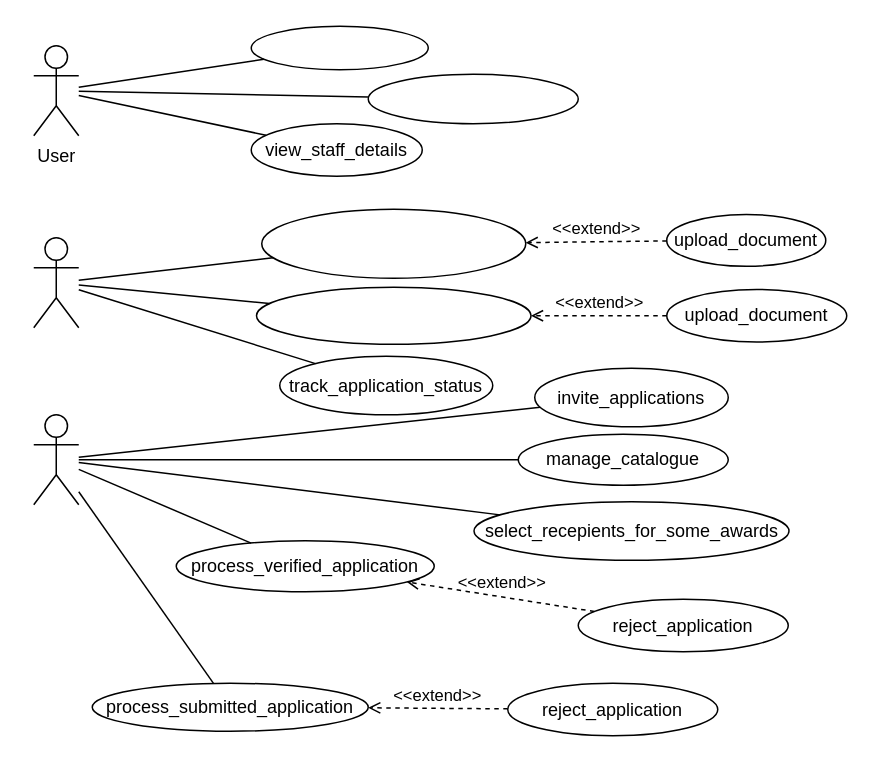
Image size: 873x762. Some labels were removed from this diagram. The shapes that lost their labels are listed below. From the top down, each one's centre as x and y in pixels, then its label:
At point (339, 47): "browse_catalouge".
At point (472, 98): "view_previous_winners".
At point (393, 243): "apply_for_mcm_scholarship".
At point (55, 282): "Student".
At point (393, 315): "apply_for_convocation_medals".
At point (55, 459): "SPACS Admin".
